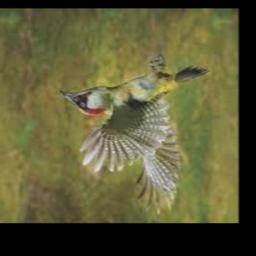Woodpecker: (59, 55, 211, 215)
